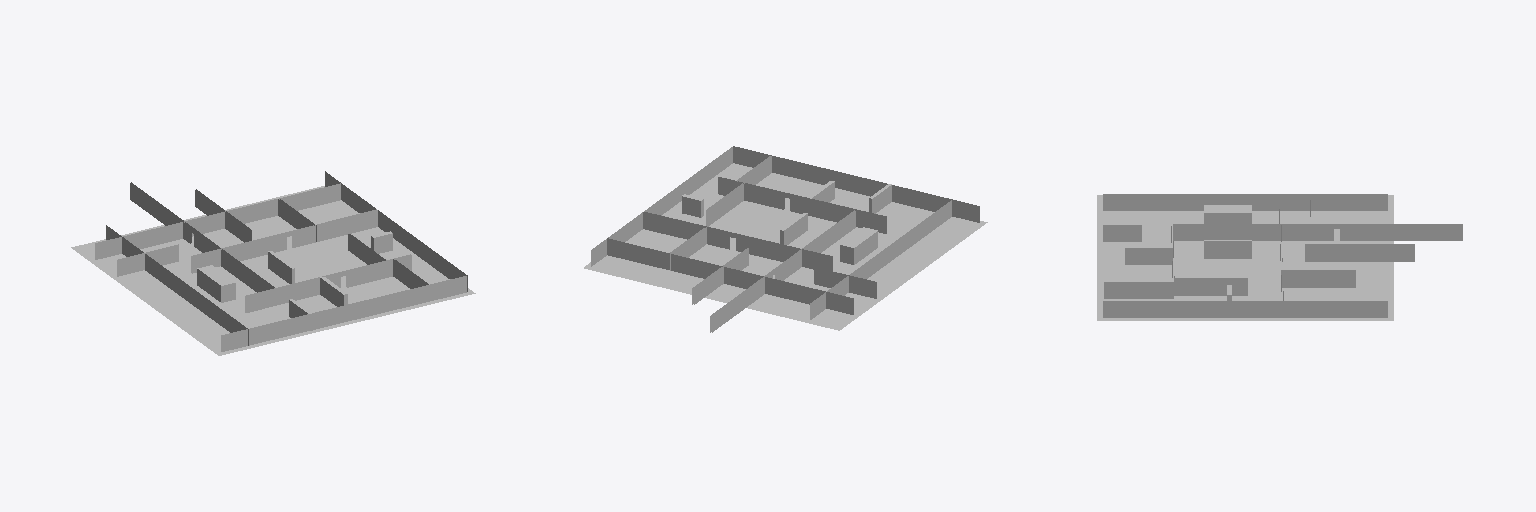
Rendered from stage2.obj.
The picture shows the model from 3 angles: view 1: azimuth 30°, elevation 25°; view 2: azimuth 150°, elevation 25°; view 3: azimuth 270°, elevation 25°; orthographic projection.
Parts seen in each view (by area): view 1: 床, 壁④, 壁③, 壁②, 壁①, 壁④.005, 壁④.001, 壁④.004, 壁②.001, 立方体.006, 壁②.002, 壁④.003 (+6 smaller); view 2: 床, 壁③, 壁④, 壁②, 壁①, 壁④.001, 壁④.004, 壁④.005, 壁②.001, 壁②.002, 壁④.003, 立方体.006 (+5 smaller); view 3: 床, 壁①, 壁②, 壁②.001, 壁②.002, 壁①.003, 壁①.004, 壁①.002, 壁①.001, 立方体.003, 立方体.006, 立方体.004 (+1 smaller).
Boxes of the visible parts, x1=… form: 床: x1=71, y1=186, x2=475, y2=355; 壁④: x1=221, y1=276, x2=466, y2=351; 壁③: x1=95, y1=183, x2=340, y2=259; 壁②: x1=106, y1=225, x2=248, y2=345; 壁①: x1=325, y1=171, x2=467, y2=291; 壁④.005: x1=292, y1=209, x2=377, y2=247; 壁④.001: x1=245, y1=272, x2=340, y2=312; 壁④.004: x1=191, y1=232, x2=286, y2=273; 壁②.001: x1=194, y1=230, x2=274, y2=292; 立方体.006: x1=197, y1=265, x2=235, y2=302; 壁②.002: x1=130, y1=182, x2=191, y2=243; 壁④.003: x1=346, y1=254, x2=411, y2=287; 床: x1=584, y1=163, x2=987, y2=330; 壁③: x1=607, y1=238, x2=853, y2=314; 壁④: x1=733, y1=146, x2=979, y2=222; 壁②: x1=810, y1=200, x2=951, y2=319; 壁①: x1=591, y1=147, x2=732, y2=266; 壁④.001: x1=790, y1=194, x2=886, y2=233; 壁④.004: x1=736, y1=234, x2=832, y2=270; 壁④.005: x1=643, y1=212, x2=729, y2=249; 壁②.001: x1=775, y1=210, x2=855, y2=280; 壁②.002: x1=710, y1=272, x2=772, y2=332; 壁④.003: x1=718, y1=177, x2=784, y2=209; 立方体.006: x1=840, y1=227, x2=877, y2=264; 床: x1=1097, y1=195, x2=1393, y2=320; 壁①: x1=1103, y1=301, x2=1387, y2=317; 壁②: x1=1103, y1=194, x2=1387, y2=210; 壁②.001: x1=1173, y1=224, x2=1333, y2=240; 壁②.002: x1=1340, y1=224, x2=1462, y2=240; 壁①.003: x1=1305, y1=244, x2=1414, y2=261; 壁①.004: x1=1281, y1=270, x2=1355, y2=287; 壁①.002: x1=1174, y1=278, x2=1247, y2=295; 壁①.001: x1=1104, y1=282, x2=1173, y2=298; 立方体.003: x1=1204, y1=240, x2=1251, y2=258; 立方体.006: x1=1204, y1=205, x2=1251, y2=223; 立方体.004: x1=1125, y1=246, x2=1172, y2=264.
Bounding box in the file's own units: 379 × 43.16 × 468.